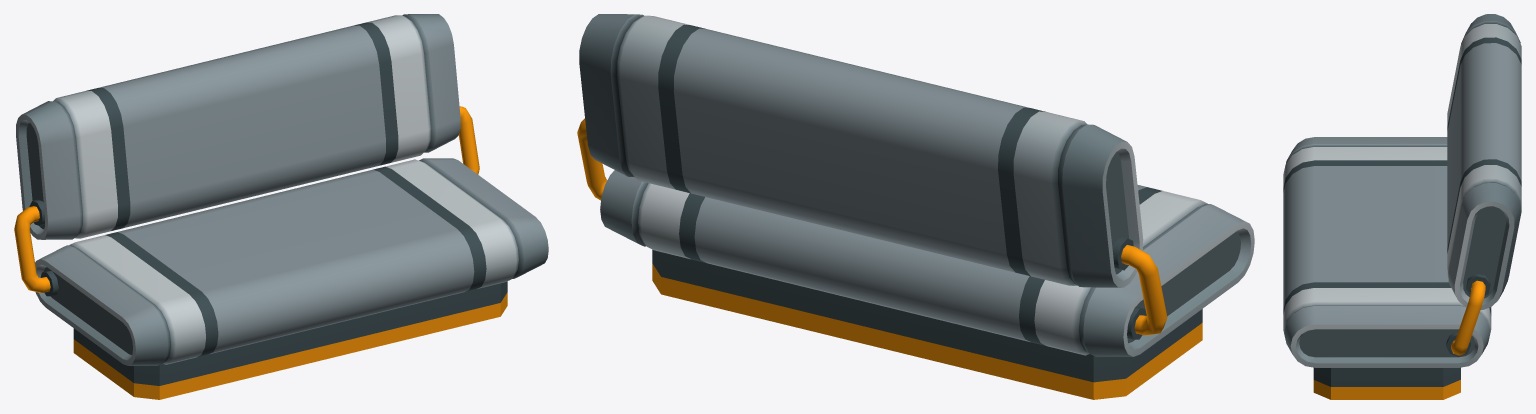
Rendered from Sofa_005.fbx.
3 renders of one model, left to right at view 1: azimuth 30°, elevation 25°; view 2: azimuth 150°, elevation 25°; view 3: azimuth 270°, elevation 25°, orthographic. The views are drawn at different scales.
Parts seen in each view (by area): view 1: Sofa_005; view 2: Sofa_005; view 3: Sofa_005.
Part boxes in pixels (x1=…): Sofa_005: x1=14, y1=14, x2=548, y2=399; Sofa_005: x1=577, y1=14, x2=1254, y2=399; Sofa_005: x1=1283, y1=14, x2=1521, y2=399.
Size of the model in its own units: 202 by 98.51 by 97.47.
